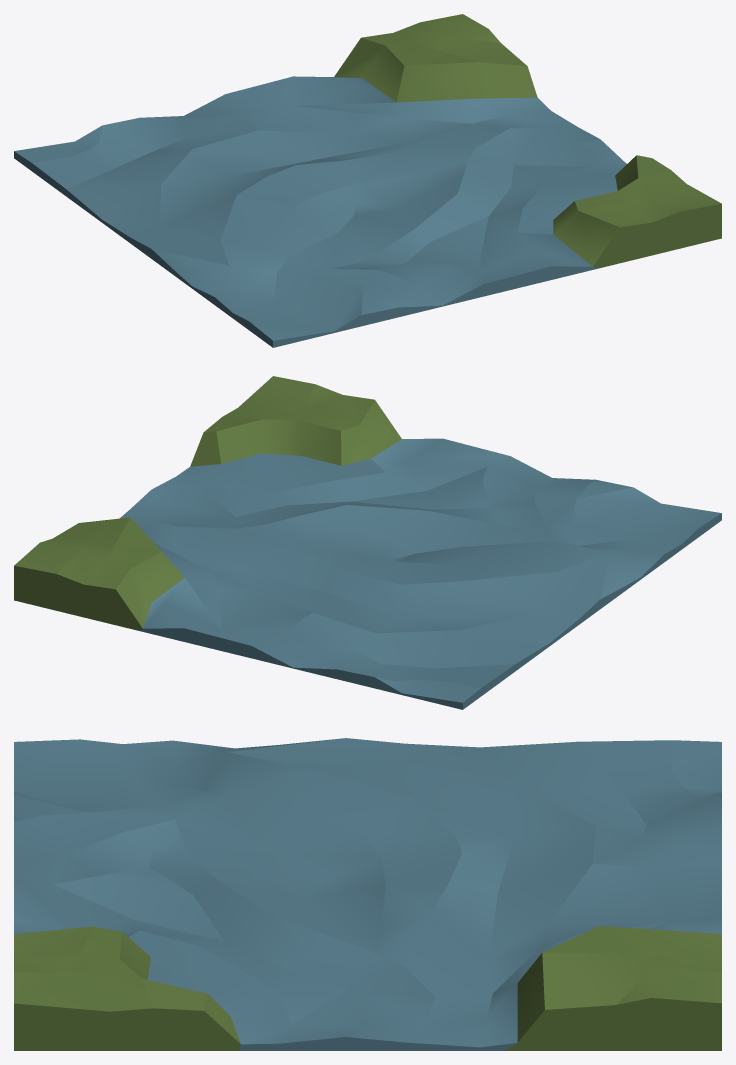
Rendered from Water_River_Entrance_R.glb.
The picture shows the model from 3 angles, top to bottom: view 1: azimuth 30°, elevation 25°; view 2: azimuth 150°, elevation 25°; view 3: azimuth 270°, elevation 25°; orthographic projection. The views are drawn at different scales.
Parts seen in each view (by area): view 1: Water_River_Entrance_R; view 2: Water_River_Entrance_R; view 3: Water_River_Entrance_R.
Boxes of the visible parts, left/top/right/bottom form: Water_River_Entrance_R: left=14, top=14, right=721, bottom=347; Water_River_Entrance_R: left=14, top=376, right=721, bottom=709; Water_River_Entrance_R: left=14, top=738, right=721, bottom=1050.
Bounding box in the file's own units: 1.47 × 0.1503 × 1.47.
